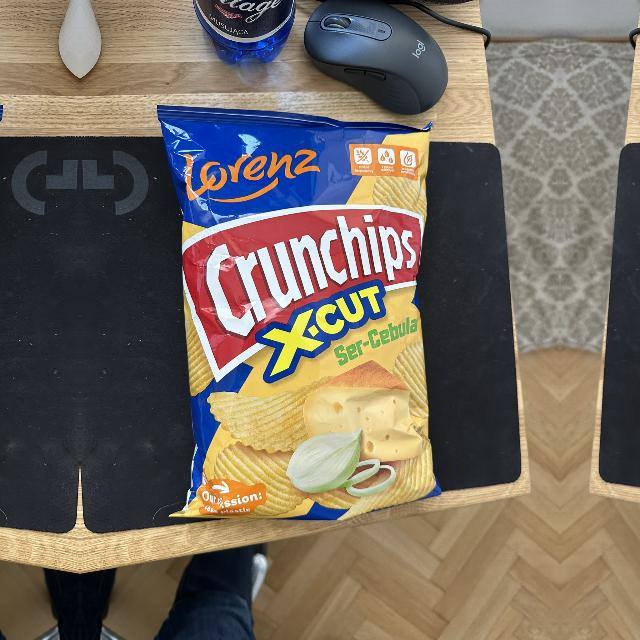crunchips: (183, 205, 425, 384)
